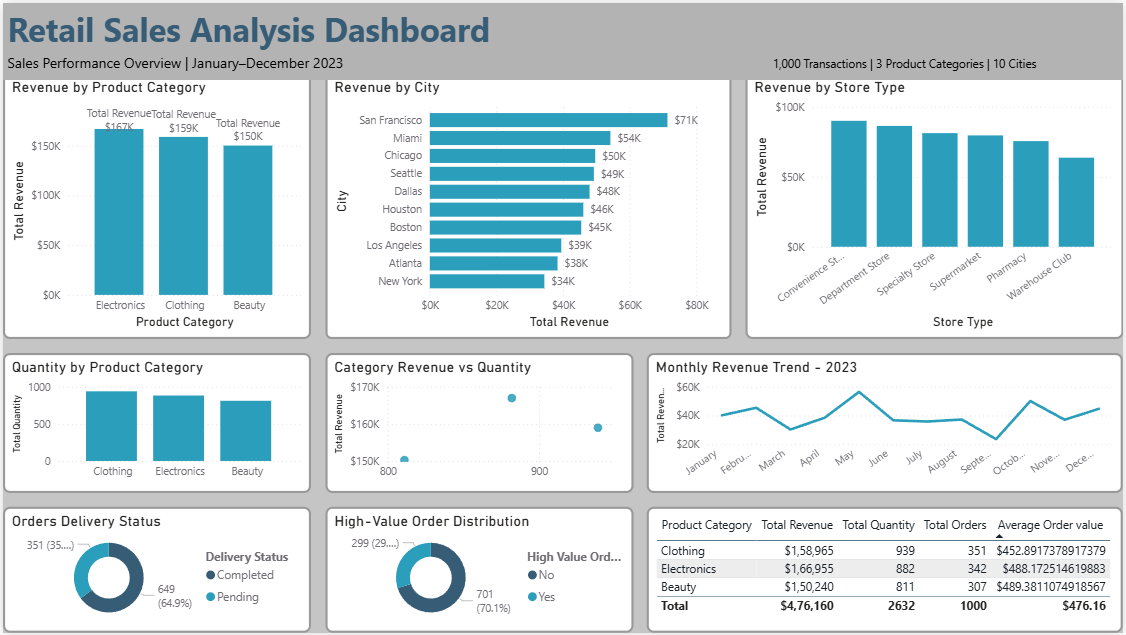

The dashboard page shown, as its layout file describes it:
{"tool":"powerbi","page":{"name":"Sales Analysis","canvas":[1280,720],"ordinal":0},"visuals":[{"type":"clusteredColumnChart","title":"Revenue by Product Category","fields":{"Category":["Retail_Sales.Product Category"],"Y":["Retail_Sales.Total Revenue"]},"box":[0,80,352,304],"z":0},{"type":"clusteredColumnChart","title":"Quantity by Product Category","fields":{"Category":["Retail_Sales.Product Category"],"Y":["Retail_Sales.Total Quantity"]},"box":[0,400,352,160],"z":1000},{"type":"barChart","title":"Revenue by City","fields":{"Category":["Retail_Sales.City"],"Y":["Retail_Sales.Total Revenue"]},"box":[368,80,464,304],"z":2000},{"type":"clusteredColumnChart","title":"Revenue by Store Type","fields":{"Category":["Retail_Sales.Store Type"],"Y":["Retail_Sales.Total Revenue"]},"box":[848,80,432,304],"z":3000},{"type":"lineChart","title":"Monthly Revenue Trend - 2023","fields":{"Category":["Retail_Sales.Date.Variation.Date Hierarchy.Month"],"Y":["Retail_Sales.Total Revenue"]},"box":[736,400,544,160],"z":4000},{"type":"scatterChart","title":"Category Revenue vs Quantity","fields":{"X":["Retail_Sales.Total Quantity"],"Y":["Retail_Sales.Total Revenue"],"Category":["Retail_Sales.Product Category"]},"box":[368,400,352,160],"z":5000},{"type":"donutChart","title":"Orders Delivery Status","fields":{"Category":["Retail_Sales.Delivery Status"],"Y":["Retail_Sales.Total Orders"]},"box":[0,576,352,144],"z":6000},{"type":"donutChart","title":"High-Value Order Distribution","fields":{"Category":["Retail_Sales.High Value Order"],"Y":["Retail_Sales.Total Orders"]},"box":[368,576,352,144],"z":7000},{"type":"tableEx","fields":{"Values":["Retail_Sales.Product Category","Retail_Sales.Total Revenue","Retail_Sales.Total Quantity","Retail_Sales.Total Orders","Retail_Sales.Average Order value"]},"box":[736,576,544,144],"z":8000},{"type":"textbox","box":[0,0,1280,80],"z":9001}]}

Visuals, with their boxes in screenshot pixels (x1, y1, x2, y2), scaled from the page's 1280x720 canvas onto the 1126x635 screenshot:
"Revenue by Product Category" clusteredColumnChart: x1=0, y1=71, x2=310, y2=339
"Quantity by Product Category" clusteredColumnChart: x1=0, y1=353, x2=310, y2=494
"Revenue by City" barChart: x1=324, y1=71, x2=732, y2=339
"Revenue by Store Type" clusteredColumnChart: x1=746, y1=71, x2=1125, y2=339
"Monthly Revenue Trend - 2023" lineChart: x1=647, y1=353, x2=1125, y2=494
"Category Revenue vs Quantity" scatterChart: x1=324, y1=353, x2=633, y2=494
"Orders Delivery Status" donutChart: x1=0, y1=508, x2=310, y2=634
"High-Value Order Distribution" donutChart: x1=324, y1=508, x2=633, y2=634
tableEx - Retail_Sales.Product Category x Retail_Sales.Total Revenue: x1=647, y1=508, x2=1125, y2=634
textbox: x1=0, y1=0, x2=1125, y2=71
